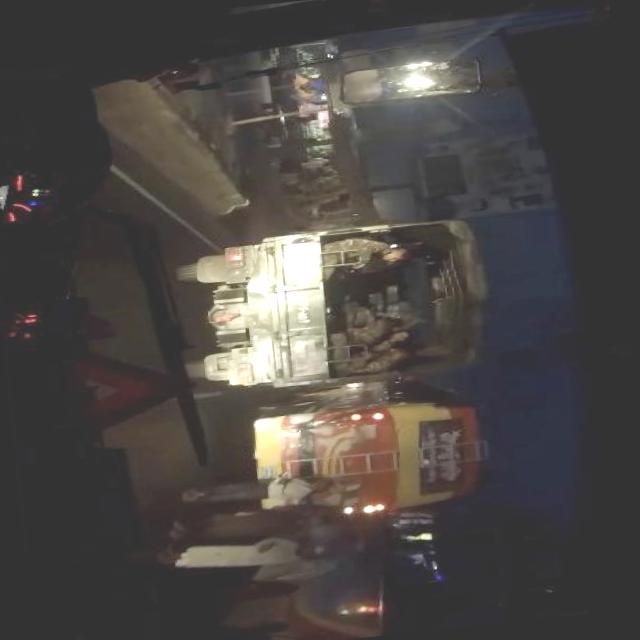bus: (252, 376, 486, 526)
truck: (174, 213, 500, 403)
